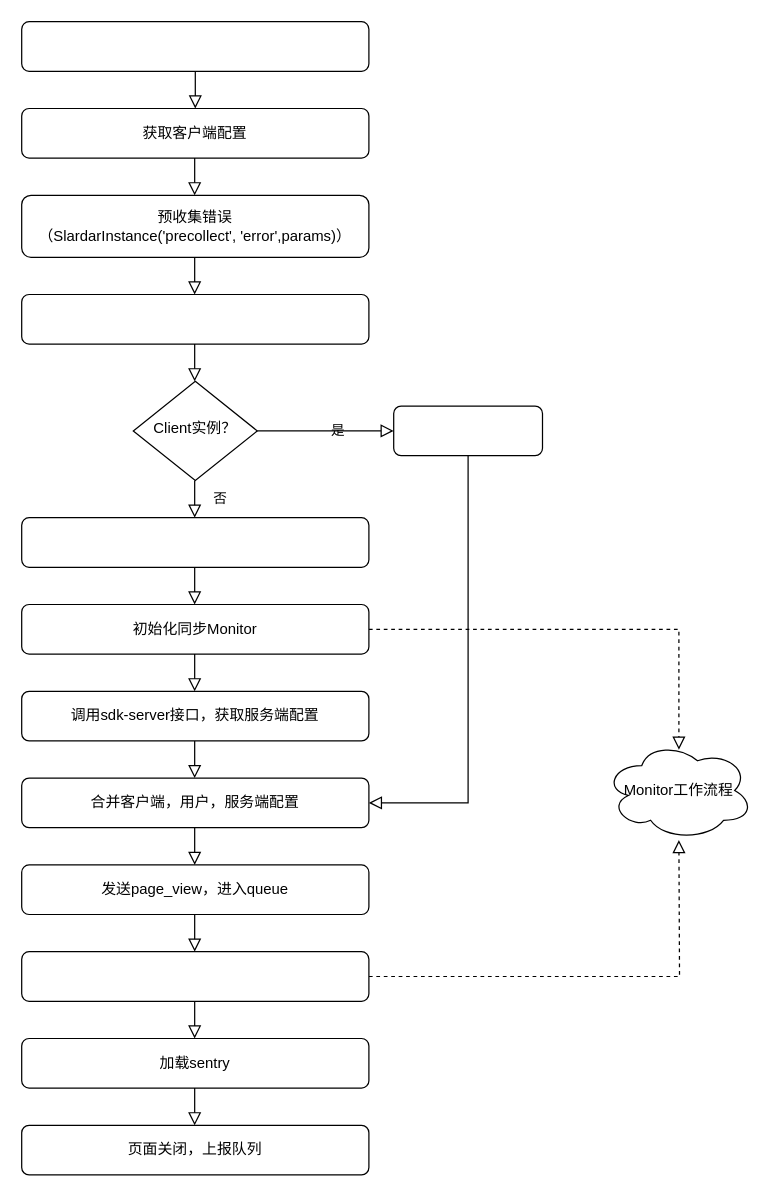
This 775x1197 diagram has some shape labels left out. Here are the shapes that lost their labels. From the top down, the centre of each, then its label:
the point at 194,45: 创建Slardar实例 （window.Slardar = SlardarInstance）
the point at 194,318: 开发调用Slardar('config',{})，设置用户配置
the point at 467,430: 更新配置
the point at 194,541: 创建Client实例，批量上传对象，调用send进入queue，调用uploadQueue上报并清空队列
the point at 194,975: 更新同步Monitor，并加载异步Monitor
